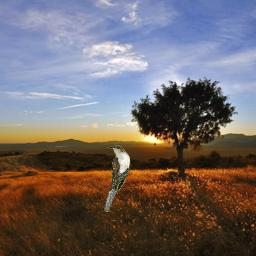Cuckoo: (104, 145, 131, 212)
